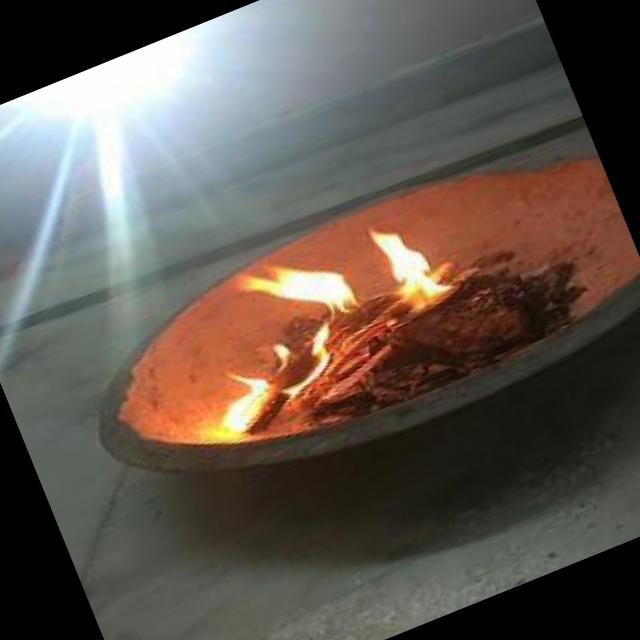fire: (160, 231, 390, 448), (350, 195, 486, 328)
